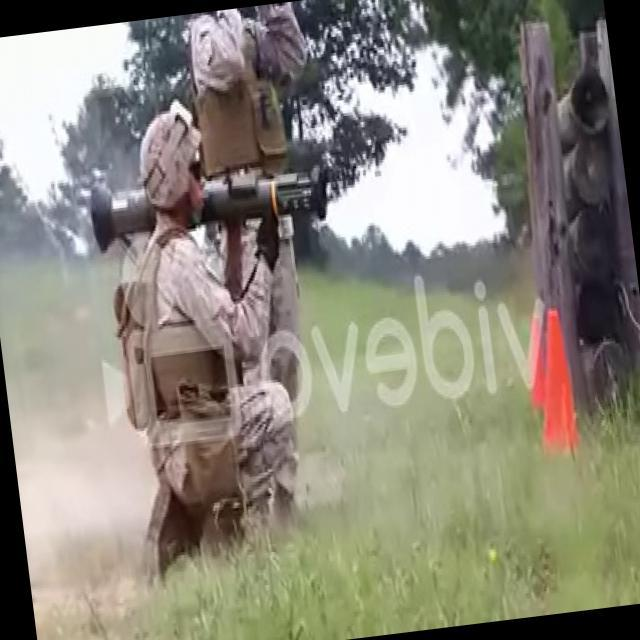rocket: (92, 157, 333, 255)
